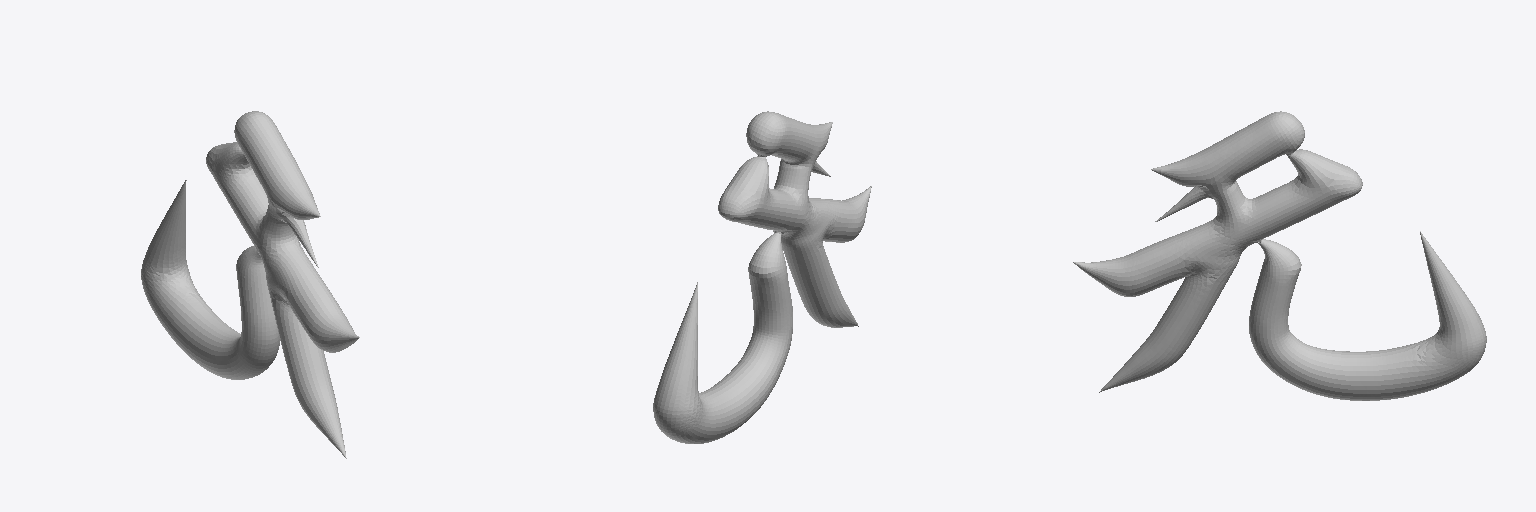
The picture shows the model from 3 angles: view 1: azimuth 30°, elevation 25°; view 2: azimuth 150°, elevation 25°; view 3: azimuth 270°, elevation 25°; orthographic projection.
Parts seen in each view (by area): view 1: tripo_node_d7f73b15-2e7e-43e1-aa4a-[number redacted]f0d4; view 2: tripo_node_d7f73b15-2e7e-43e1-aa4a-[number redacted]f0d4; view 3: tripo_node_d7f73b15-2e7e-43e1-aa4a-[number redacted]f0d4.
Boxes of the visible parts, x1,y1,x2,y2 form: tripo_node_d7f73b15-2e7e-43e1-aa4a-[number redacted]f0d4: [141, 111, 359, 458]; tripo_node_d7f73b15-2e7e-43e1-aa4a-[number redacted]f0d4: [653, 111, 871, 443]; tripo_node_d7f73b15-2e7e-43e1-aa4a-[number redacted]f0d4: [1073, 111, 1486, 400].
Size of the model in its own units: 0.1157 by 0.7605 by 0.9984.